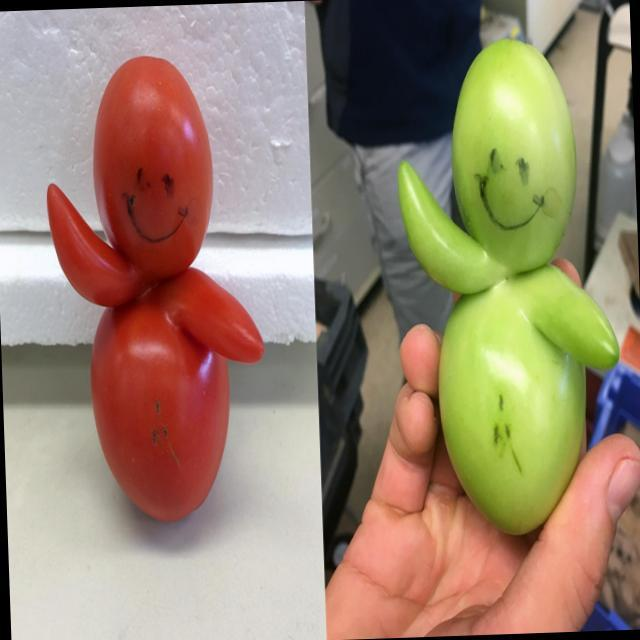TOMATO: (88, 278, 232, 524), (86, 49, 215, 285), (43, 154, 125, 310), (165, 256, 269, 362)
